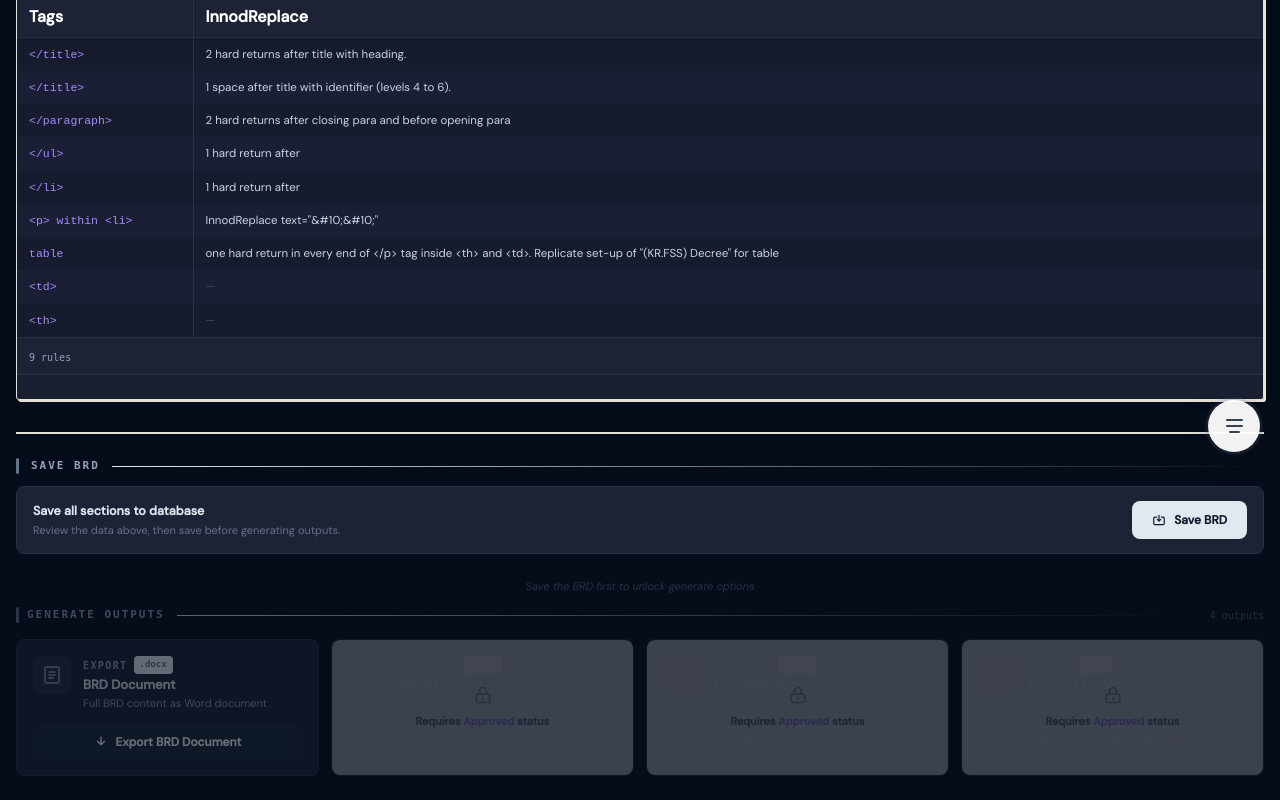
BRD save versioning › creates only one v1.0 snapshot on the first draft save
(page scrolled)
Click the button "Save BRD".
click(1190, 520)  # box [1132, 501, 1247, 539]
(page scrolled)
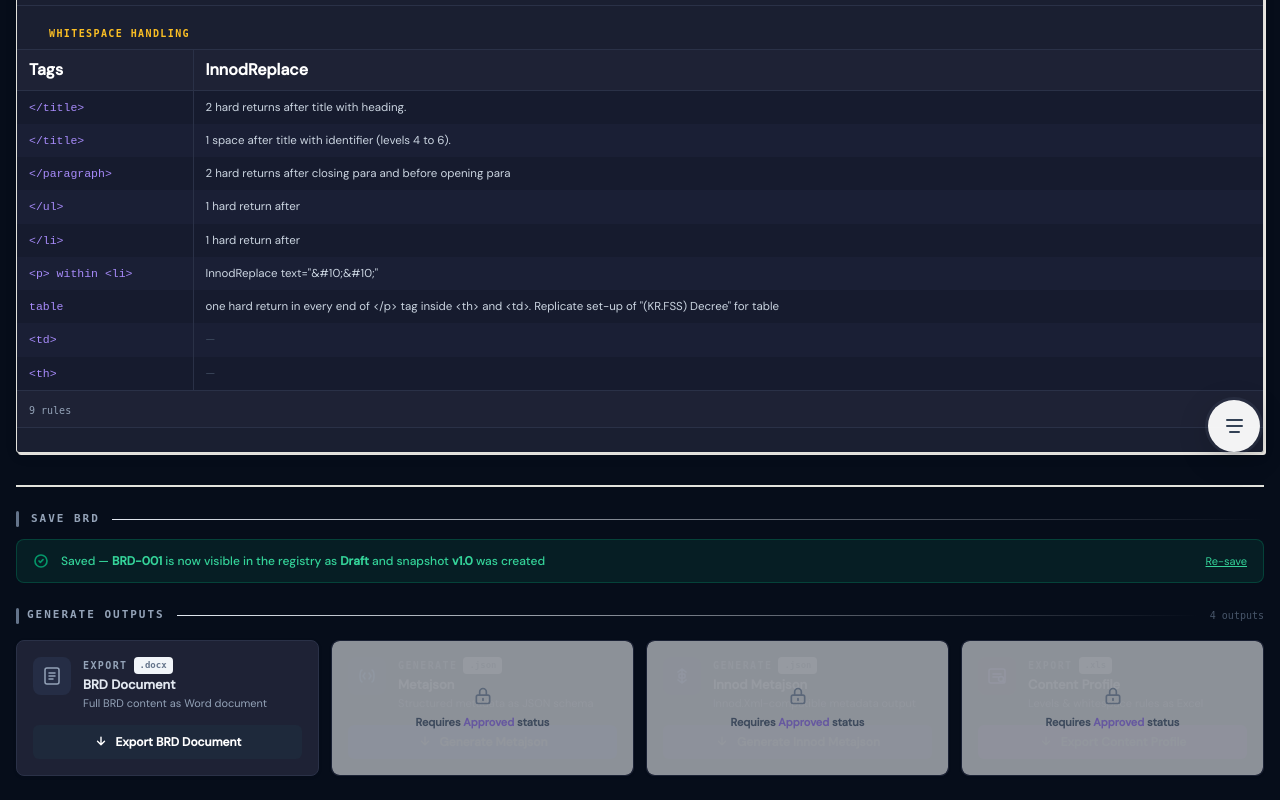
Now the text "snapshot" shows "v1.0", box [452, 553, 473, 569]
